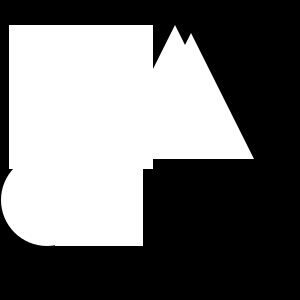circle: (9, 25, 153, 169), (55, 158, 143, 246)
rectangle: (1, 154, 93, 246)
triangle: (128, 33, 254, 159), (122, 25, 228, 131)
